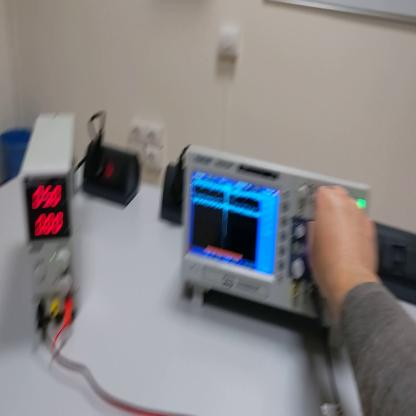hand: (310, 182, 380, 304)
oscilloscope: (172, 148, 362, 356)
power supply: (21, 111, 81, 325)
socket: (84, 140, 143, 212), (160, 162, 184, 230)
